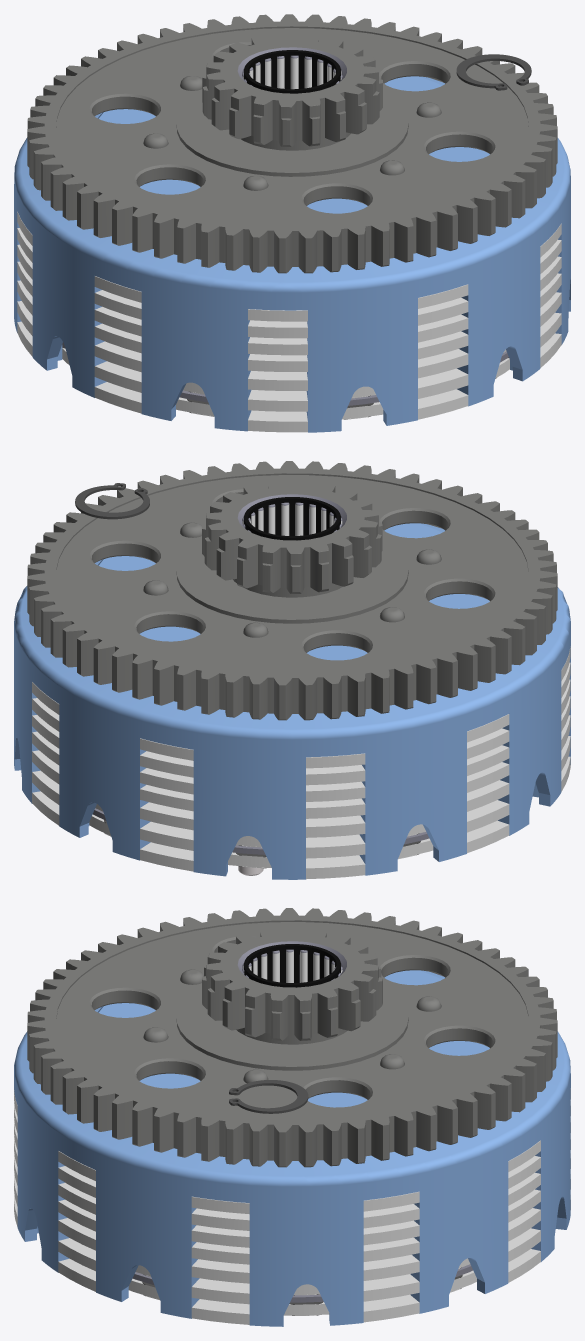
File: Clutch_step6.fbx
3 renders of one model, top to bottom at view 1: azimuth 30°, elevation 25°; view 2: azimuth 150°, elevation 25°; view 3: azimuth 270°, elevation 25°, orthographic.
Visible parts, largest first — view 1: Nut, clutch center; view 2: Nut, clutch center; view 3: Nut, clutch center.
Part boxes in pixels (x1,y1,x2,y2): Nut, clutch center: (14,14,570,432); Nut, clutch center: (14,461,570,879); Nut, clutch center: (14,908,570,1326).
Bounding box in the file's own units: 13.2 × 7.91 × 13.2.
